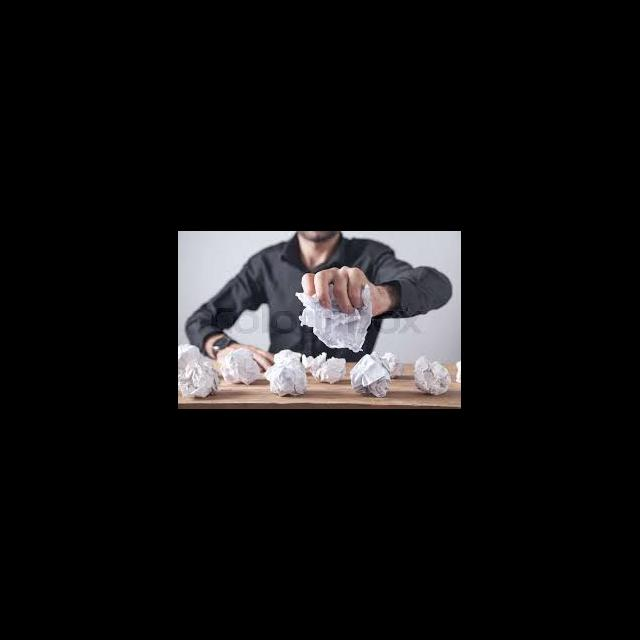paper: (299, 277, 378, 356), (349, 345, 410, 397), (178, 341, 221, 402), (259, 357, 310, 399), (412, 353, 454, 398), (220, 343, 263, 386)
